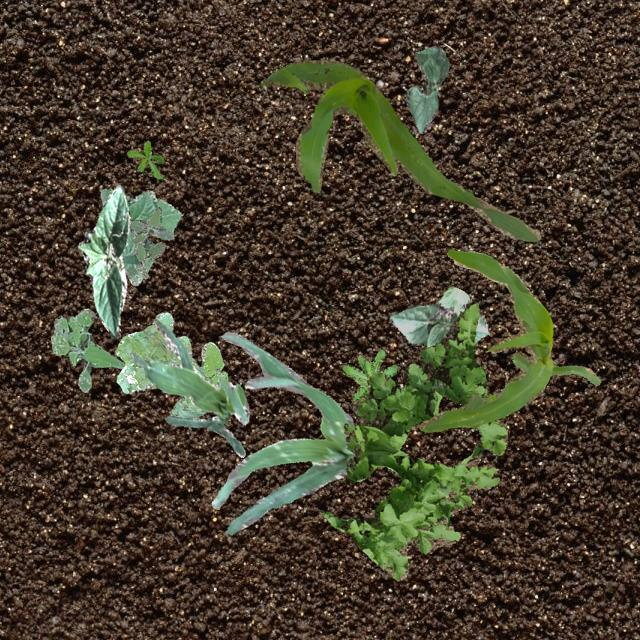crop: (260, 59, 540, 240), (416, 248, 600, 431), (210, 331, 354, 534), (128, 318, 248, 457), (76, 184, 130, 338), (100, 188, 180, 284), (388, 286, 488, 346), (406, 44, 448, 132)
weed: (322, 298, 507, 580), (115, 312, 226, 418), (49, 308, 122, 392), (126, 205, 172, 278), (341, 348, 396, 404), (126, 140, 162, 178)
